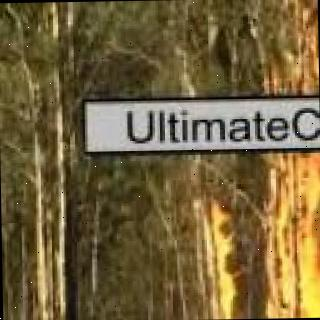fire: (191, 203, 320, 319), (251, 46, 320, 208)
